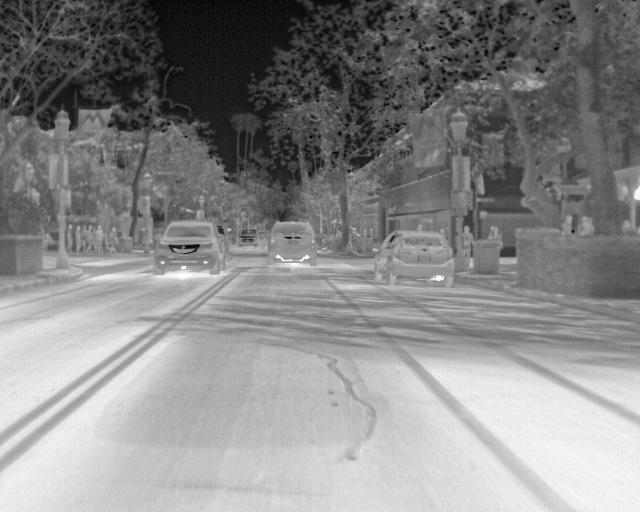bicycle: (370, 229, 456, 287), (153, 217, 228, 273), (264, 219, 319, 266), (234, 225, 261, 249)
empty: (93, 221, 107, 253), (489, 225, 505, 252), (63, 220, 76, 253), (461, 227, 475, 257), (73, 223, 85, 254), (558, 214, 577, 233)
